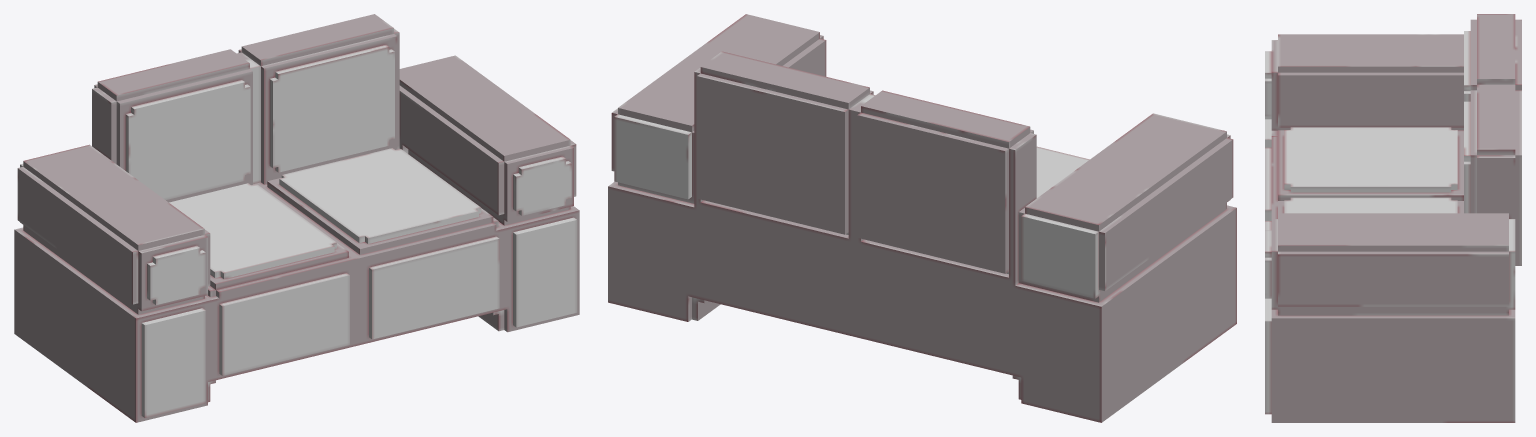
File: Sofa_3.obj
3 views of the same model, side by side, from view 1: azimuth 30°, elevation 25°; view 2: azimuth 150°, elevation 25°; view 3: azimuth 270°, elevation 25° (orthographic). The views are drawn at different scales.
Visible parts, largest first — view 1: Sofa_3; view 2: Sofa_3; view 3: Sofa_3.
Part boxes in pixels (box(x1,y1,x2,y2)): Sofa_3: box(14, 14, 579, 422); Sofa_3: box(608, 14, 1236, 422); Sofa_3: box(1265, 14, 1521, 422).
Bounding box in the file's own units: 8 × 4 × 4.
Materials: 1 (1 with a texture image).
